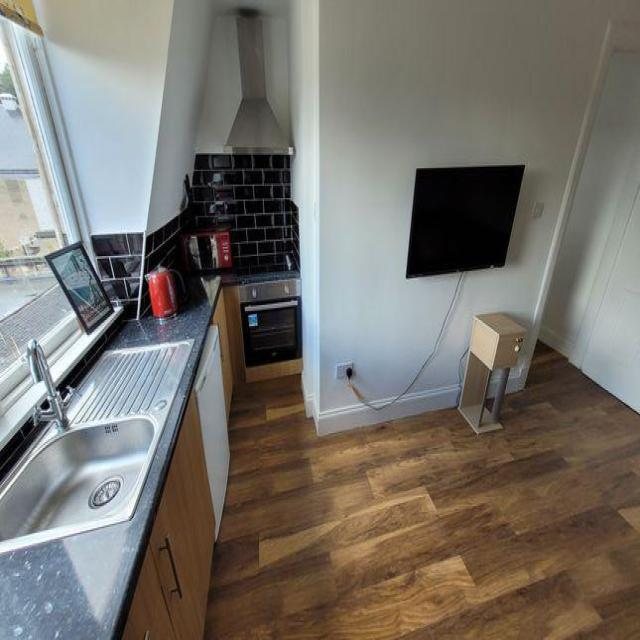Wall: (290, 0, 640, 435), (205, 345, 640, 639), (34, 0, 290, 234), (542, 52, 640, 357)
